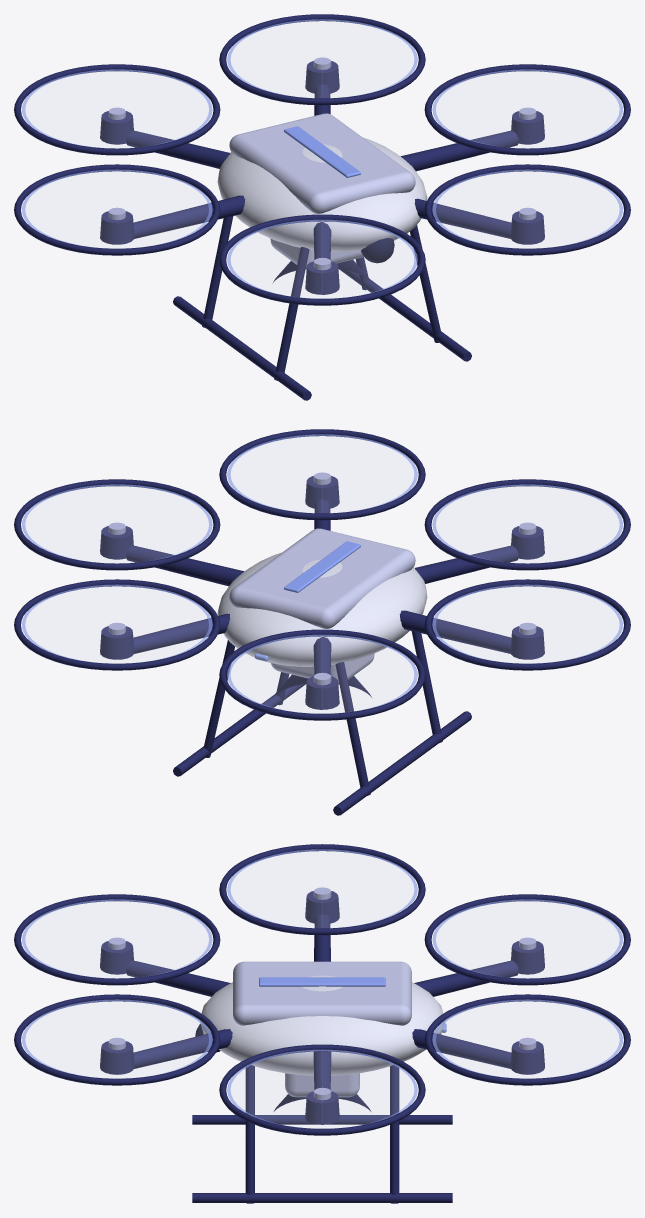
The model's file is winchDrone.glb.
3 renders of one model, top to bottom at view 1: azimuth 30°, elevation 25°; view 2: azimuth 150°, elevation 25°; view 3: azimuth 270°, elevation 25°, orthographic.
Visible parts, largest first — view 1: winchDrone, disc0, disc4, disc1, disc2, disc3, disc5, deck, body, skidL, skidR, arm4 (+13 smaller); view 2: winchDrone, disc2, disc4, disc0, disc1, disc5, disc3, deck, body, skidL, skidR, arm4 (+12 smaller); view 3: winchDrone, disc1, disc0, disc2, disc3, disc5, disc4, body, deck, skidR, skidL, arm0 (+13 smaller).
Part boxes in pixels (left/top/right/bottom): winchDrone: left=14, top=14, right=630, bottom=305; disc0: left=432, top=169, right=622, bottom=248; disc4: left=22, top=169, right=212, bottom=248; disc1: left=432, top=69, right=622, bottom=148; disc2: left=227, top=19, right=417, bottom=98; disc3: left=22, top=69, right=212, bottom=148; disc5: left=227, top=219, right=417, bottom=298; deck: left=229, top=113, right=415, bottom=213; body: left=217, top=137, right=427, bottom=251; skidL: left=173, top=216, right=311, bottom=400; skidR: left=339, top=225, right=471, bottom=361; arm4: left=133, top=195, right=245, bottom=238; winchDrone: left=14, top=429, right=630, bottom=720; disc2: left=22, top=584, right=212, bottom=663; disc4: left=432, top=584, right=622, bottom=663; disc0: left=227, top=434, right=417, bottom=513; disc1: left=22, top=484, right=212, bottom=563; disc5: left=432, top=484, right=622, bottom=563; disc3: left=227, top=634, right=417, bottom=713; deck: left=229, top=528, right=415, bottom=628; body: left=217, top=552, right=427, bottom=666; skidL: left=333, top=631, right=471, bottom=815; skidR: left=173, top=640, right=305, bottom=776; arm4: left=399, top=610, right=511, bottom=653; winchDrone: left=14, top=844, right=630, bottom=1135; disc1: left=227, top=1049, right=417, bottom=1128; disc0: left=22, top=999, right=212, bottom=1078; disc2: left=432, top=999, right=622, bottom=1078; disc3: left=432, top=899, right=622, bottom=978; disc5: left=22, top=899, right=212, bottom=978; disc4: left=227, top=849, right=417, bottom=928; body: left=200, top=975, right=444, bottom=1075; deck: left=233, top=961, right=411, bottom=1025; skidR: left=192, top=1065, right=452, bottom=1203; skidL: left=192, top=1115, right=452, bottom=1124; arm0: left=133, top=1029, right=232, bottom=1068.
Size of the model in its own units: 2.35 by 0.7029 by 2.13.
